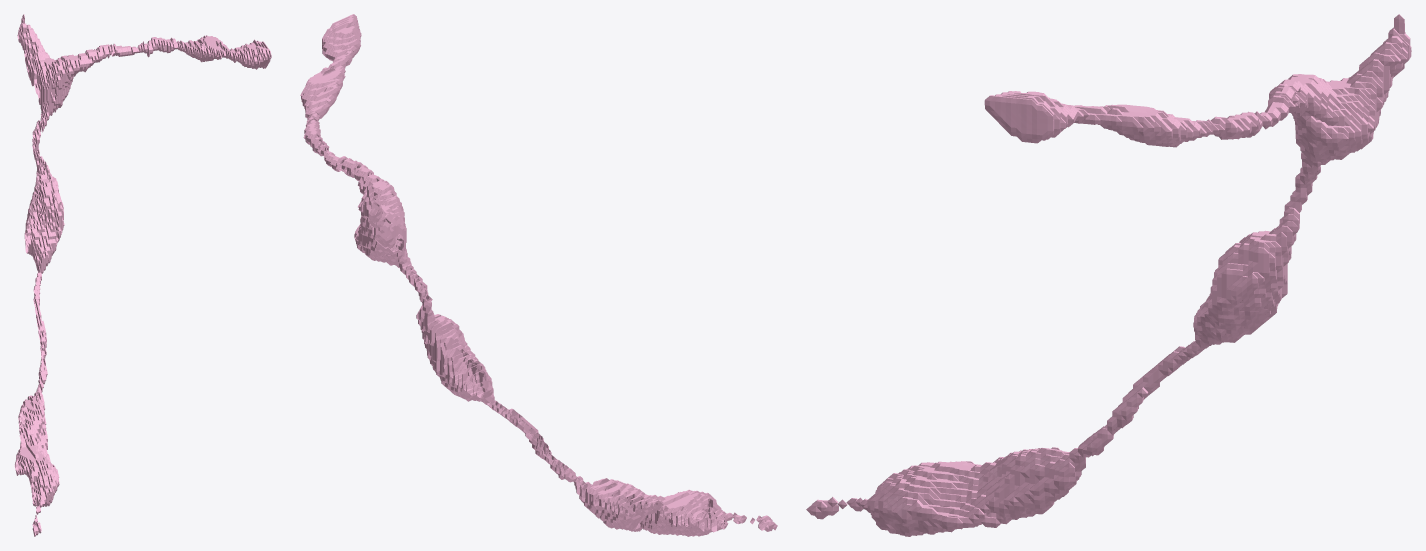
File: SVV_ALMR.gltf
The picture shows the model from 3 angles, left to right: view 1: azimuth 30°, elevation 25°; view 2: azimuth 150°, elevation 25°; view 3: azimuth 270°, elevation 25°; orthographic projection. The views are drawn at different scales.
Visible parts, largest first — view 1: ALMR; view 2: ALMR; view 3: ALMR.
Boxes of the visible parts, x1=… form: ALMR: x1=14, y1=14, x2=271, y2=536; ALMR: x1=300, y1=14, x2=777, y2=536; ALMR: x1=806, y1=14, x2=1411, y2=536.
Bounding box in the file's own units: 72831 × 89702 × 74058.
